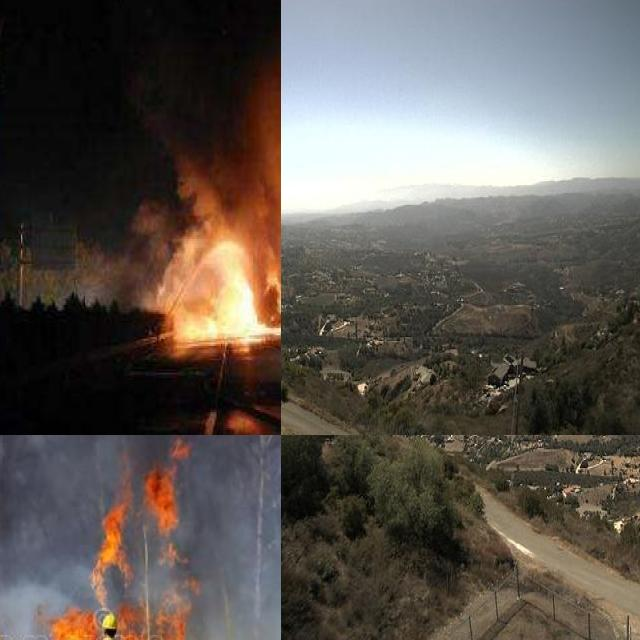fire: (87, 435, 189, 581), (175, 267, 281, 346)
smoke: (104, 0, 281, 294), (193, 435, 281, 640), (0, 435, 62, 640)
